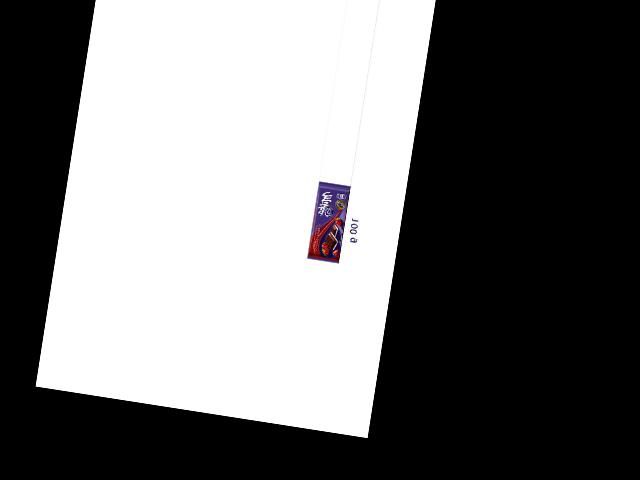chocolate: (306, 181, 354, 264)
